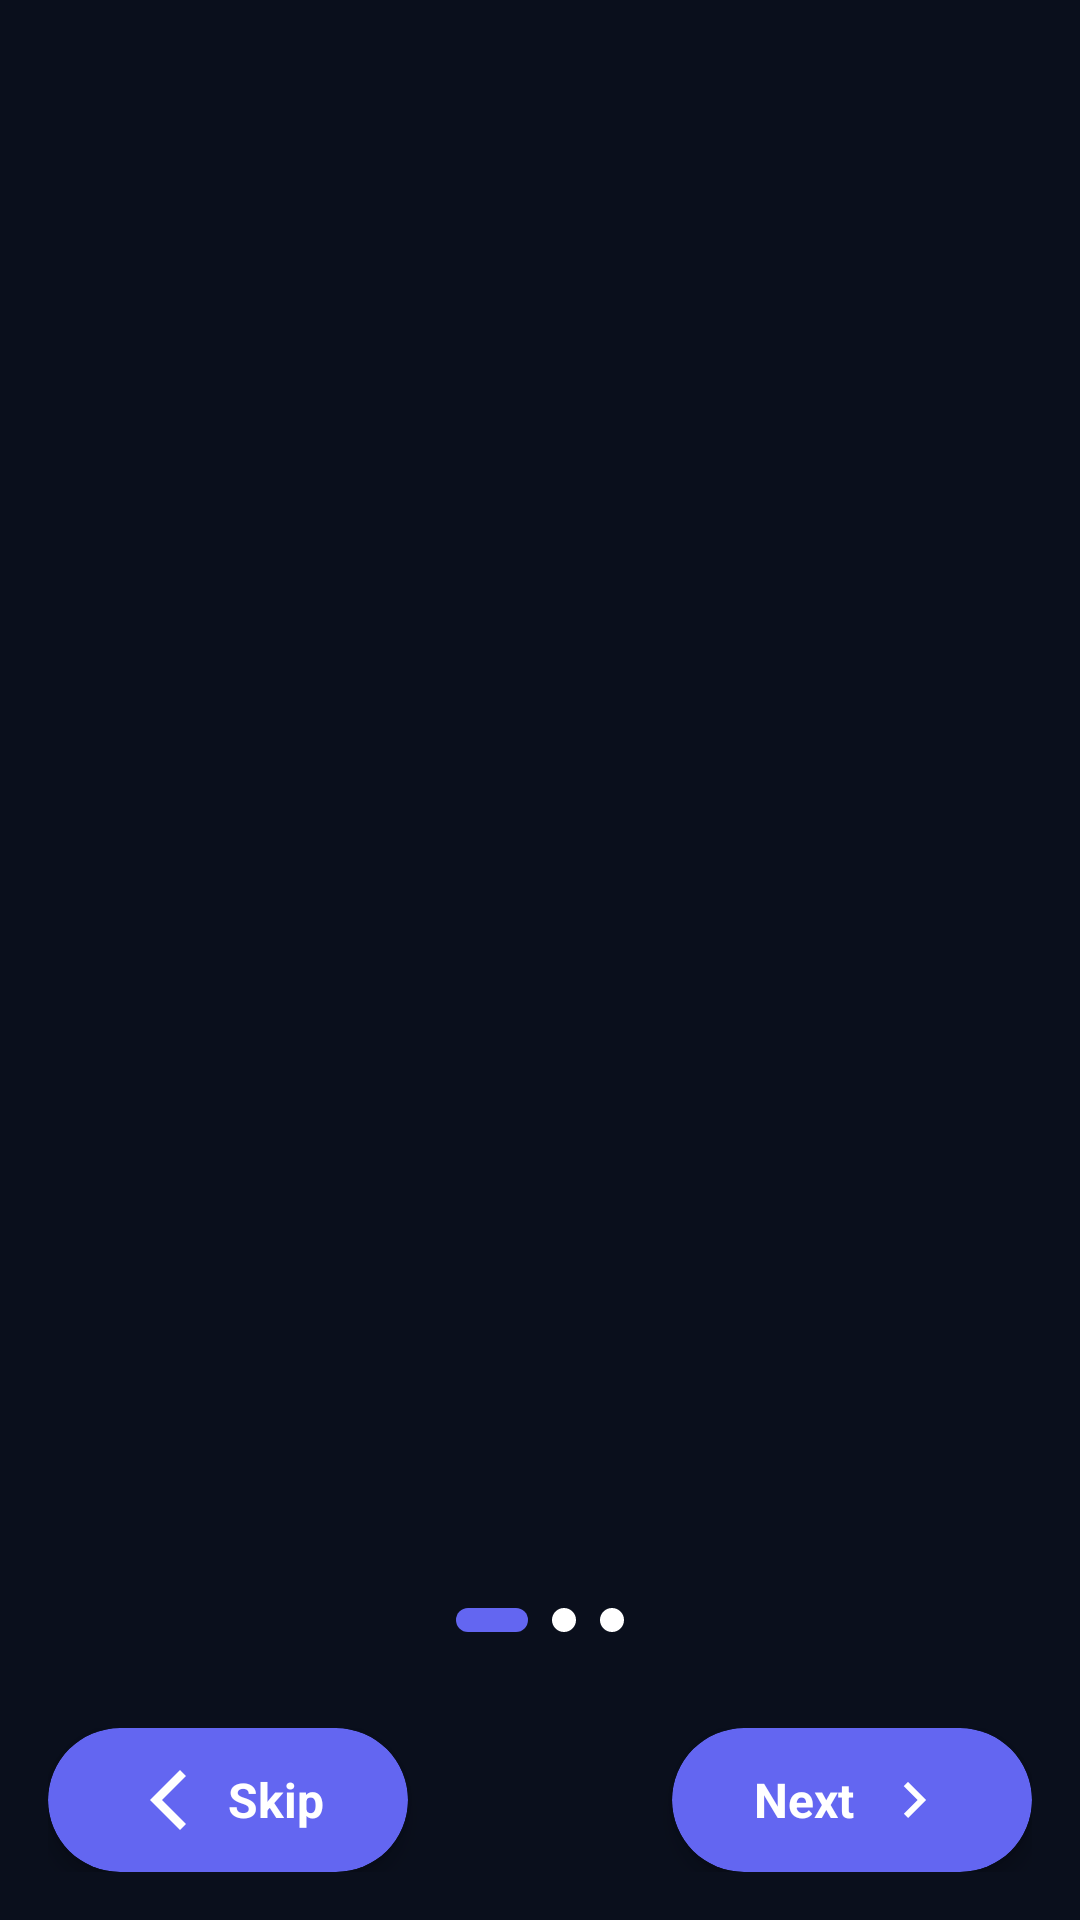

Named icons in this screenshot (1080px x 1920px) and their centers, point (x, y):
arrow back: point (168, 1800)
arrow forward: point (915, 1800)
indicator: point (492, 1620), point (564, 1620), point (612, 1620)
